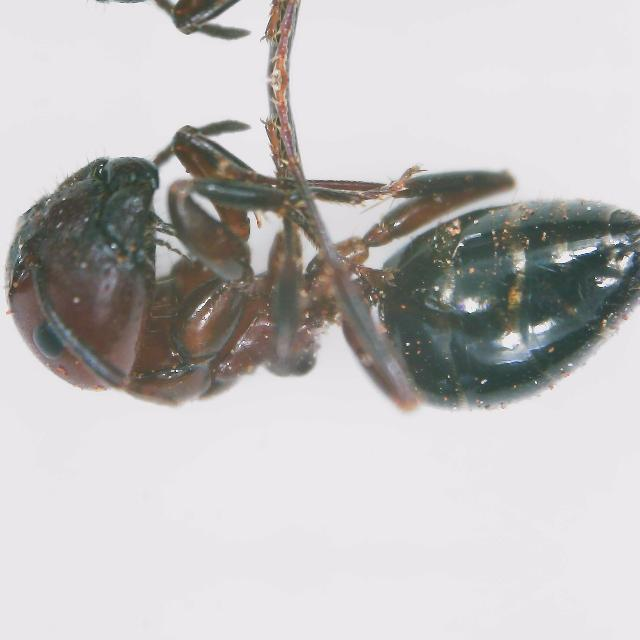Camponotus: (22, 90, 640, 468)
